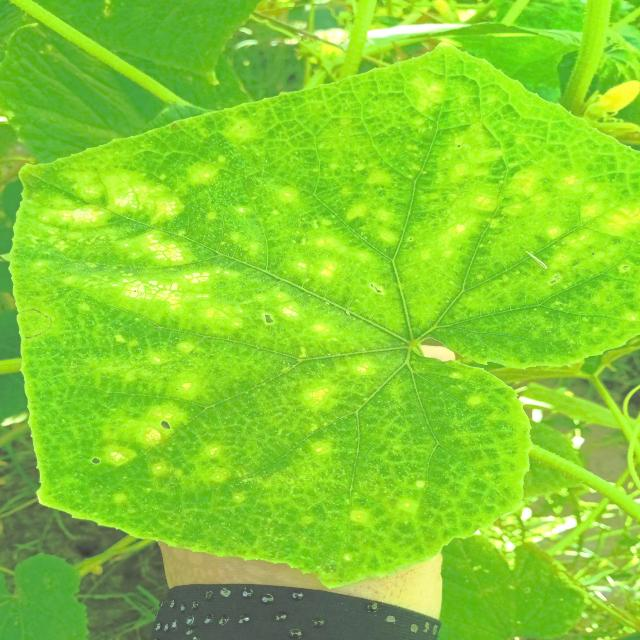Downy-Mildew: (9, 40, 638, 577)
